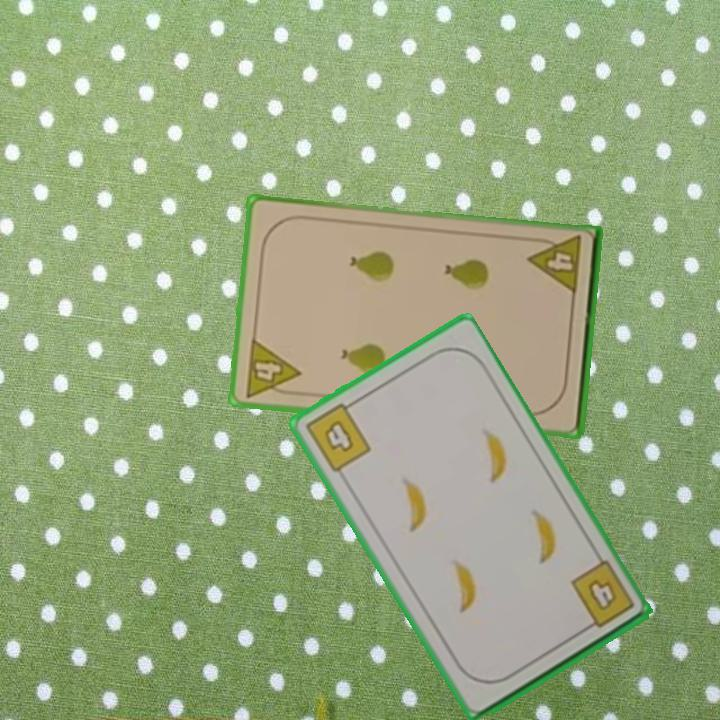4b: (301, 396, 374, 476), (566, 556, 637, 635)
4p: (241, 335, 303, 400), (525, 232, 585, 298)
